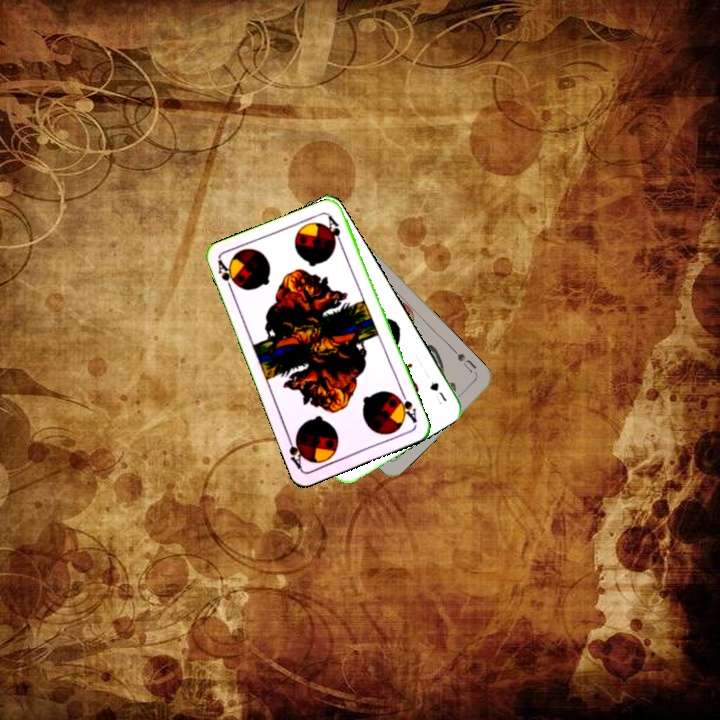GU: (425, 378, 450, 404)
SA: (392, 387, 420, 426), (214, 256, 240, 296)
SU: (453, 349, 480, 379)
